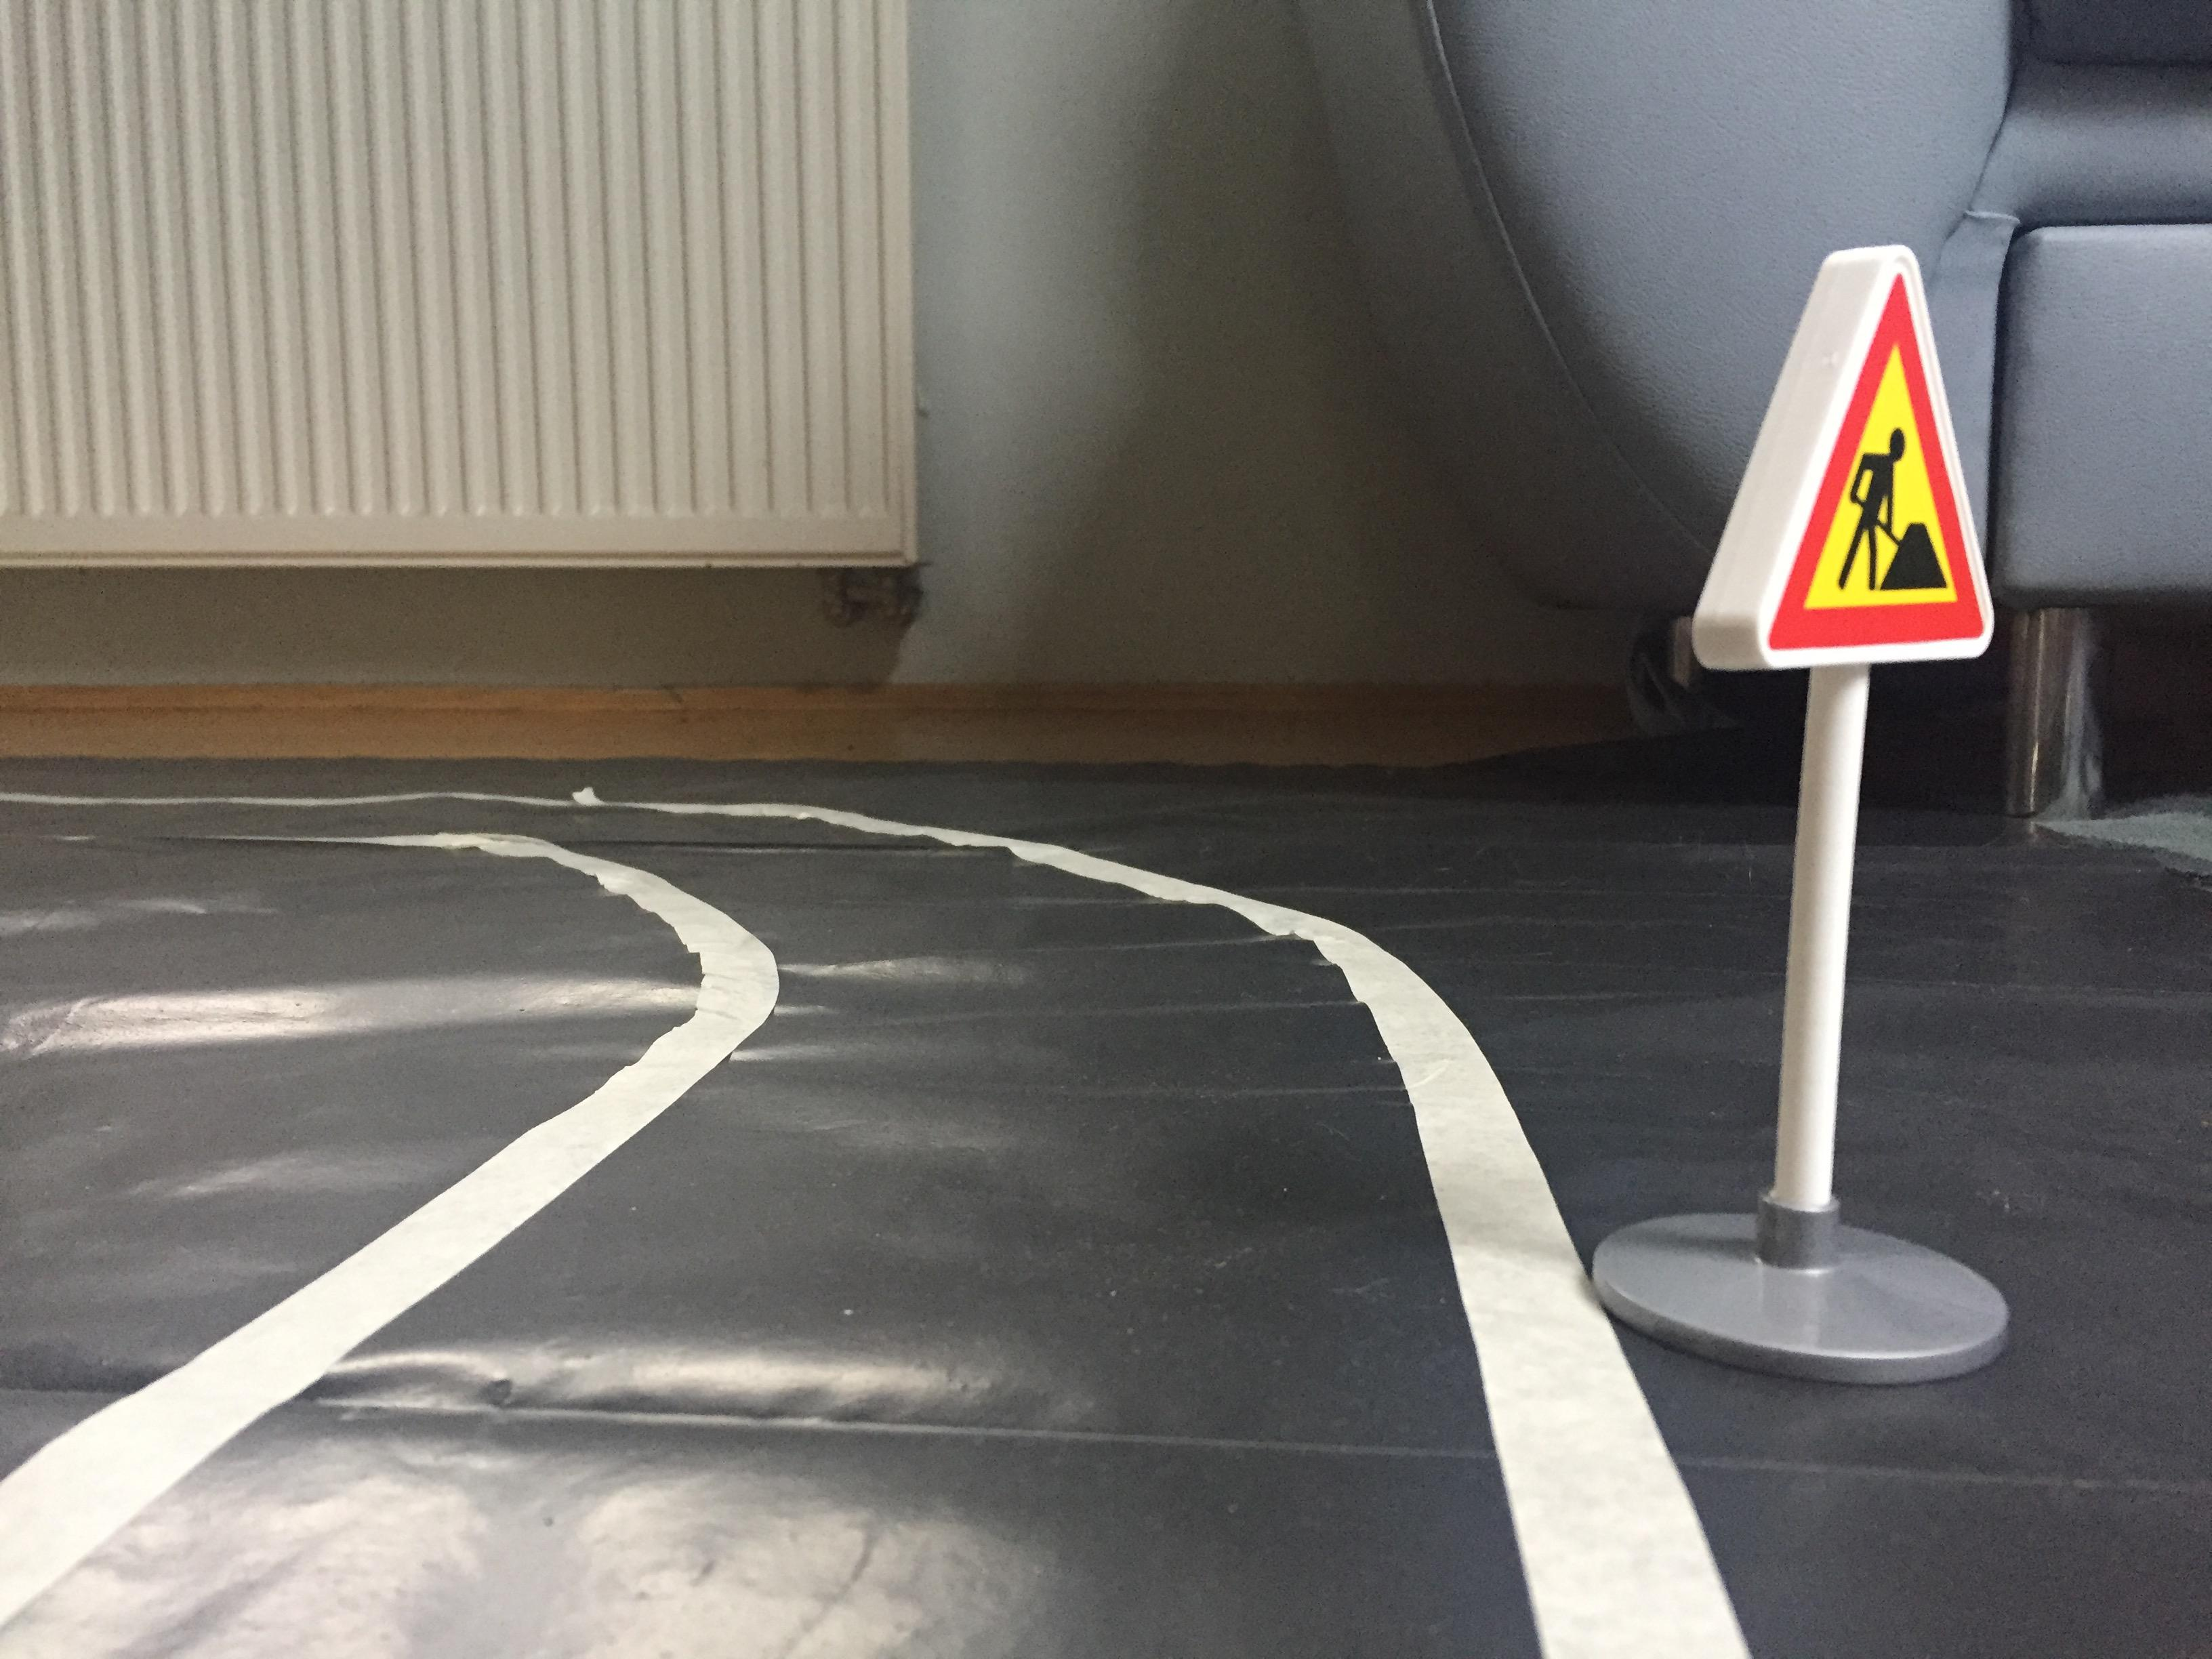work: (1686, 239, 2010, 697)
